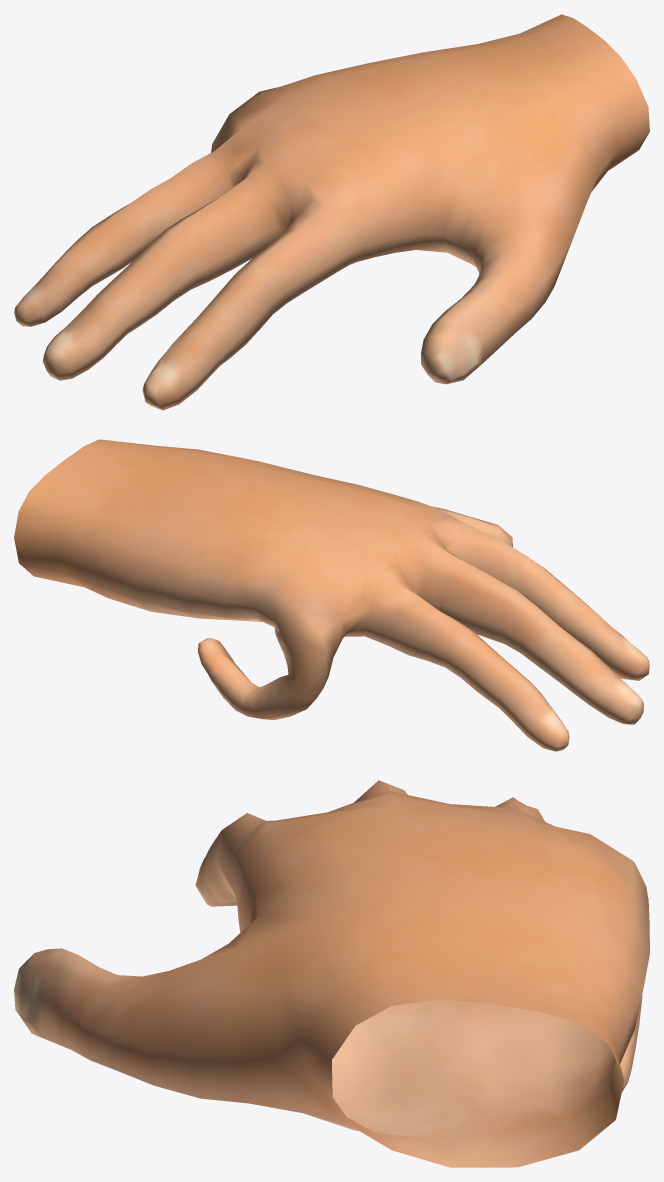
Rendered from F_pinky_curl.fbx.
The picture shows the model from 3 angles, top to bottom: view 1: azimuth 30°, elevation 25°; view 2: azimuth 150°, elevation 25°; view 3: azimuth 270°, elevation 25°; orthographic projection. The views are drawn at different scales.
Visible parts, largest first — view 1: F_pinky_curl; view 2: F_pinky_curl; view 3: F_pinky_curl.
Part boxes in pixels (x1=…): F_pinky_curl: x1=14, y1=14, x2=649, y2=410; F_pinky_curl: x1=14, y1=439, x2=649, y2=751; F_pinky_curl: x1=14, y1=780, x2=649, y2=1167.
Bounding box in the file's own units: 19.93 × 6.25 × 13.25.
Materials: 1 (1 with a texture image).
